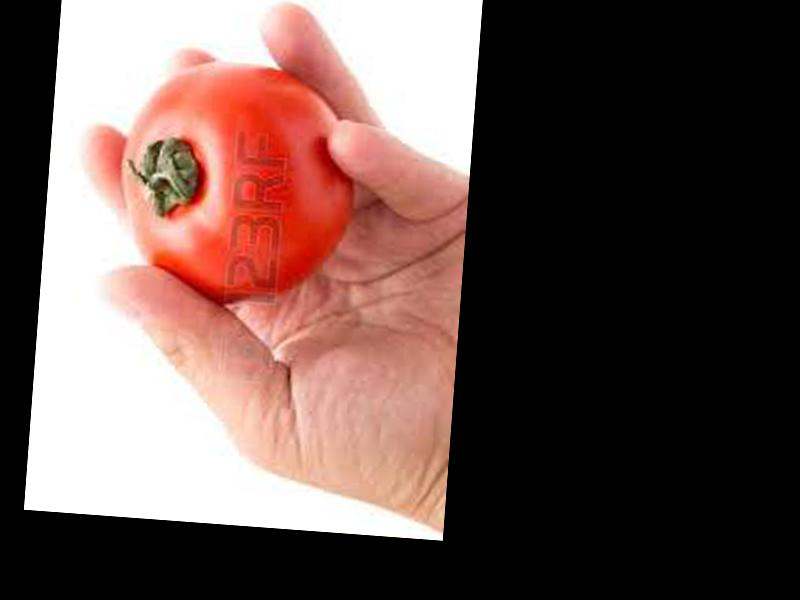Tomato: (112, 54, 361, 310)
